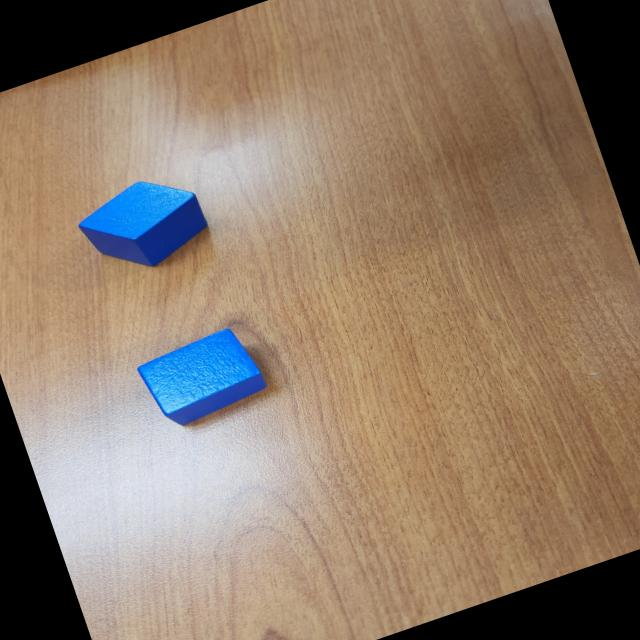blue: (68, 162, 216, 286), (132, 322, 271, 436)
